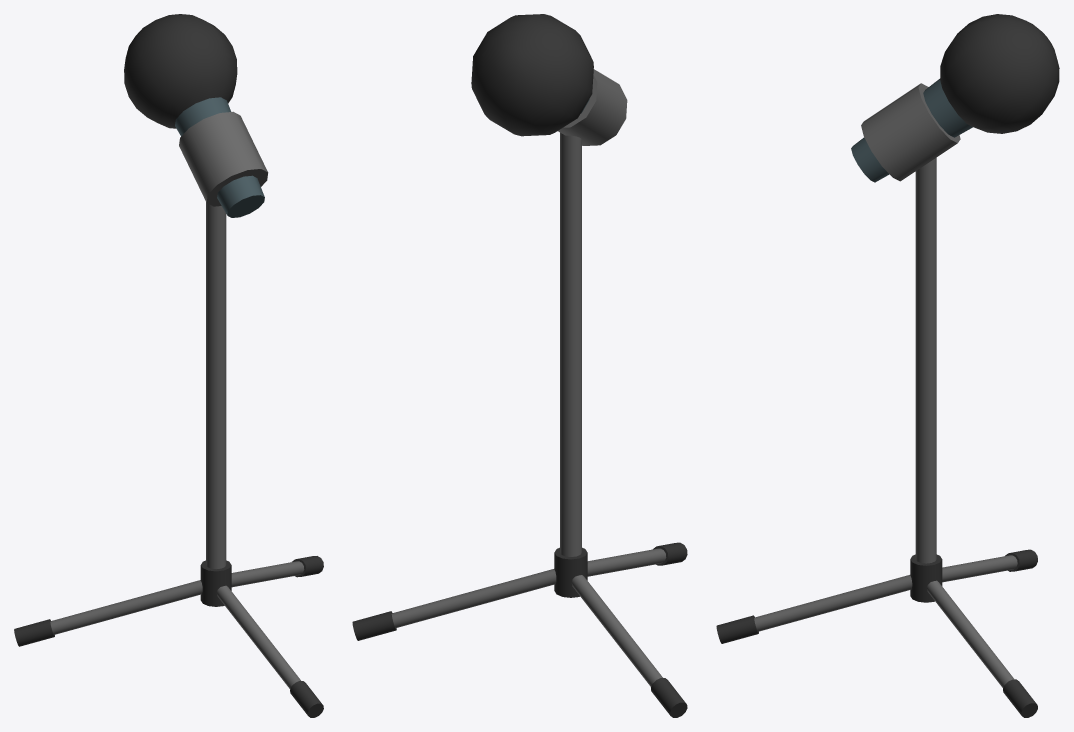
File: fbx_mike.fbx
3 renders of one model, left to right at view 1: azimuth 30°, elevation 25°; view 2: azimuth 150°, elevation 25°; view 3: azimuth 270°, elevation 25°, orthographic. The views are drawn at different scales.
Parts seen in each view (by area): view 1: fbx_mike; view 2: fbx_mike; view 3: fbx_mike.
Part boxes in pixels (x1,y1,x2,y2): fbx_mike: (14, 14, 323, 717); fbx_mike: (352, 14, 687, 717); fbx_mike: (716, 14, 1059, 717).
Bounding box in the file's own units: 0.752 × 1.4 × 0.6986.
Materials: 1 (1 with a texture image).
